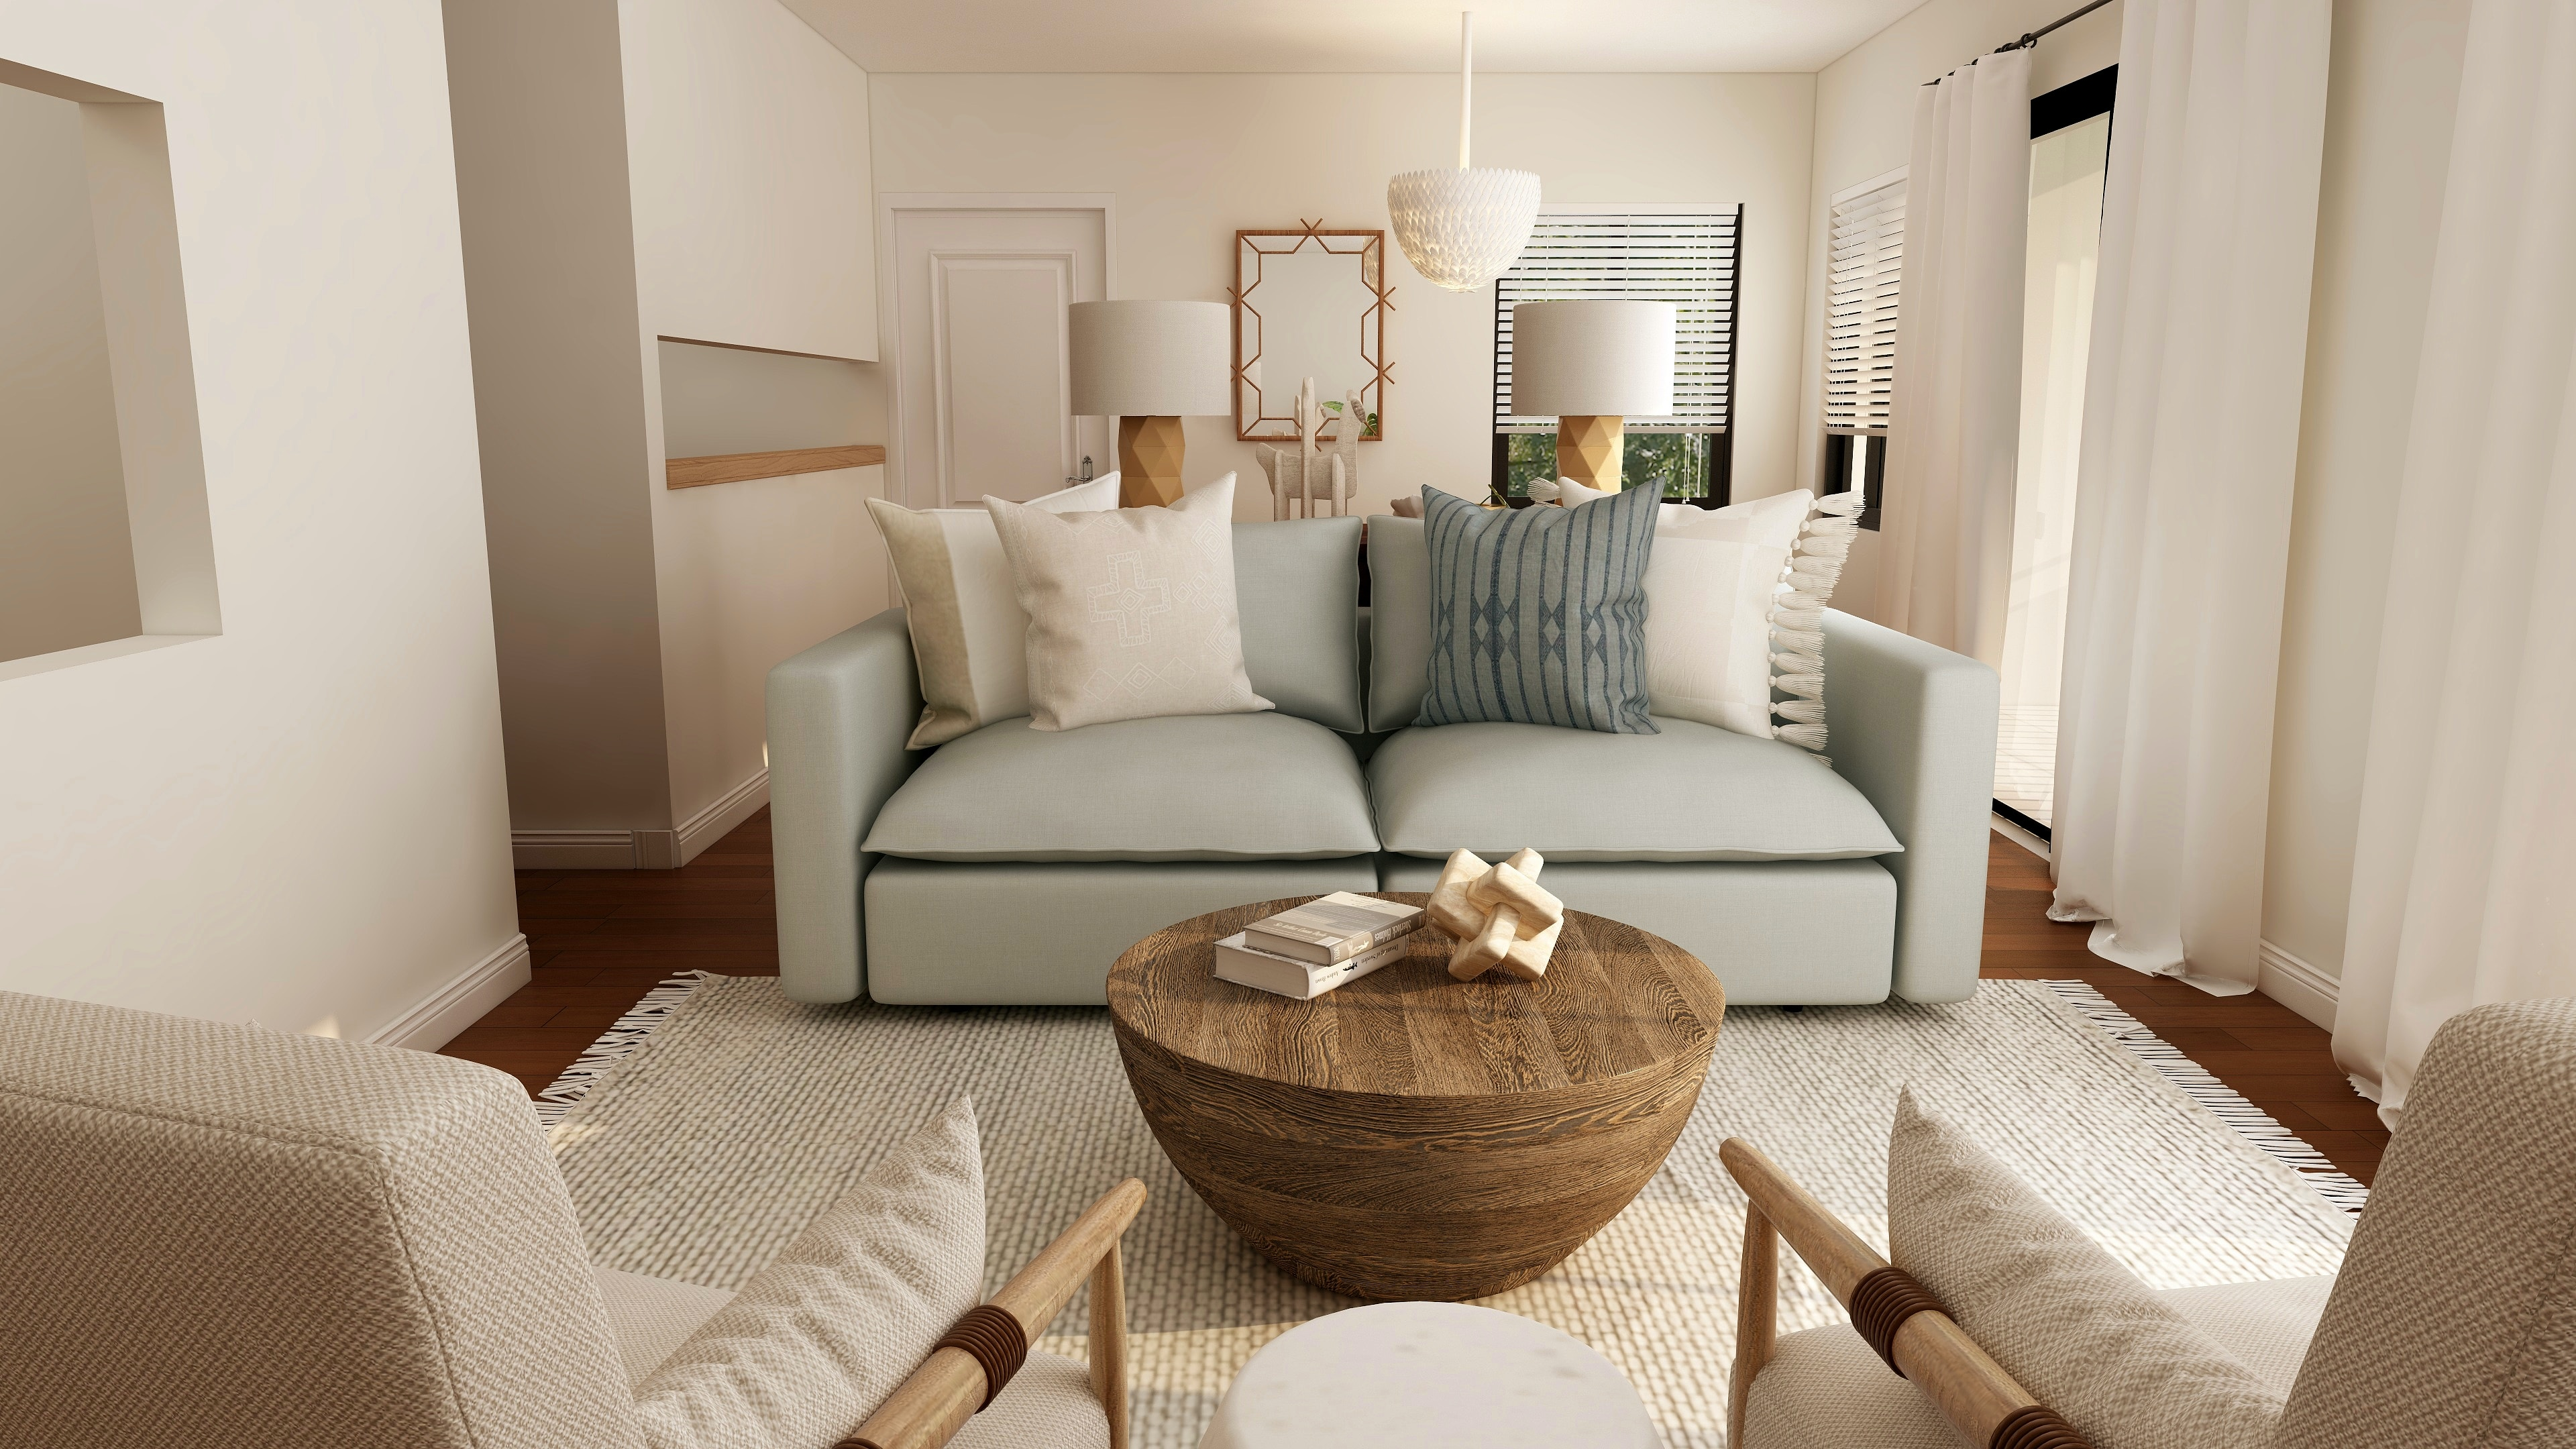Sofa: (771, 518, 2006, 1030)
Table: (1099, 902, 1729, 1323)
